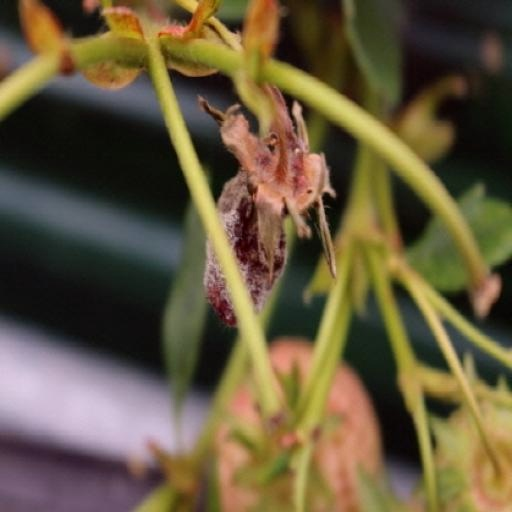Gray Mold: (175, 79, 316, 329)
